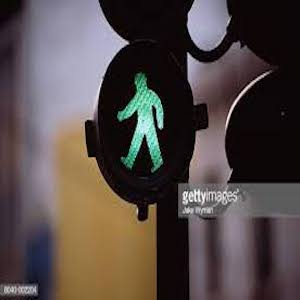green: (115, 71, 181, 173)
